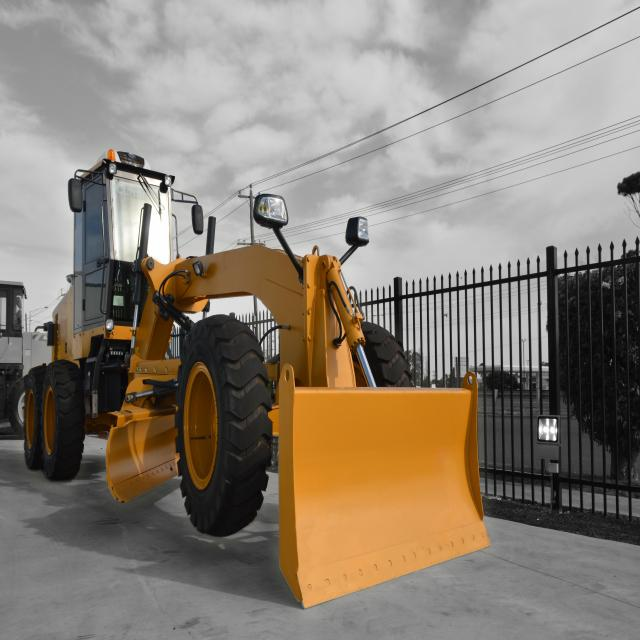Grader: (8, 142, 504, 590)
